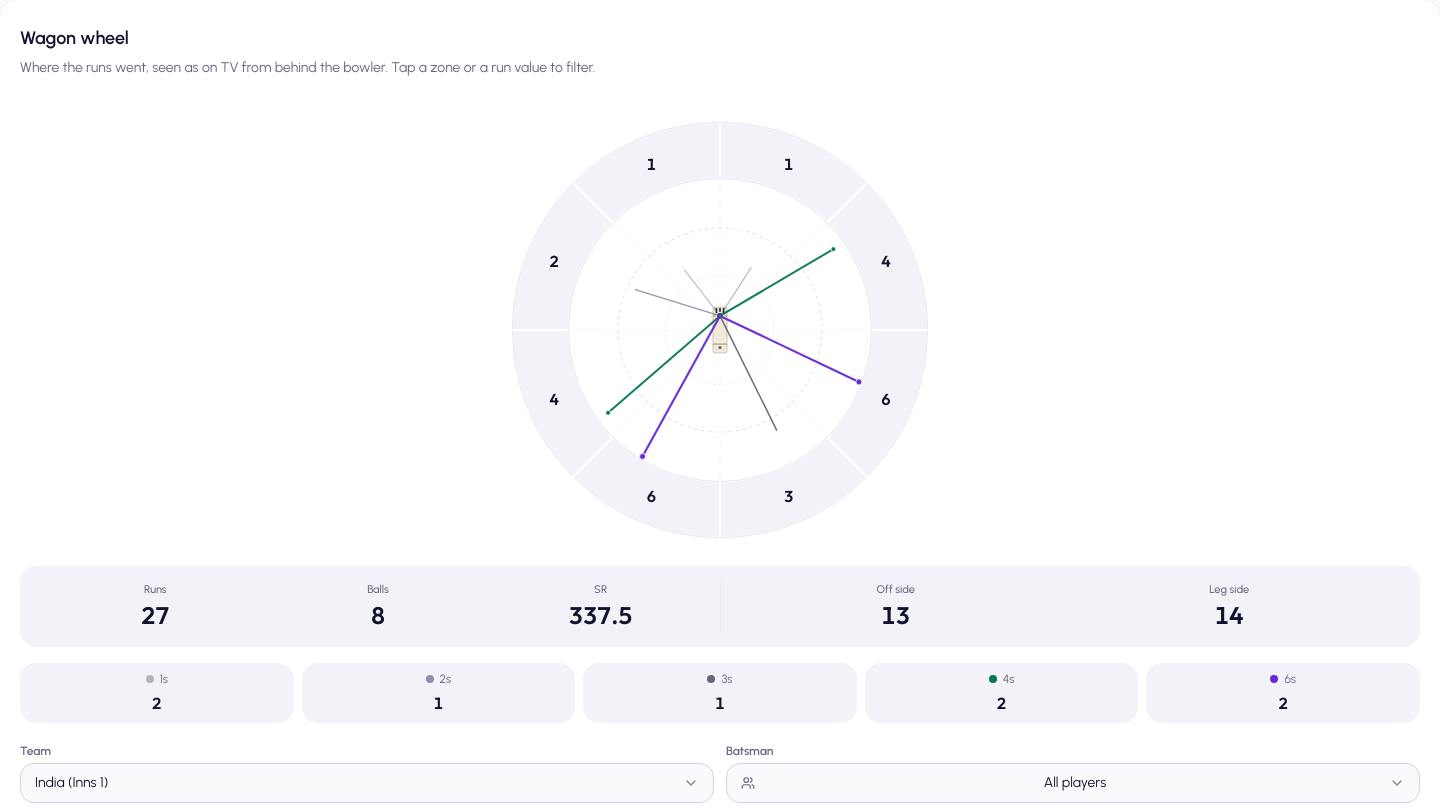
WagonWheel Component (Stumps App Design) › toggles run filter when a run pill is clicked
The image size is (1440, 810).
Note: Click to filter by 6s
Click the button named "show 6s only".
click(1283, 692)  # box top-left (1146, 662), bottom-right (1420, 722)
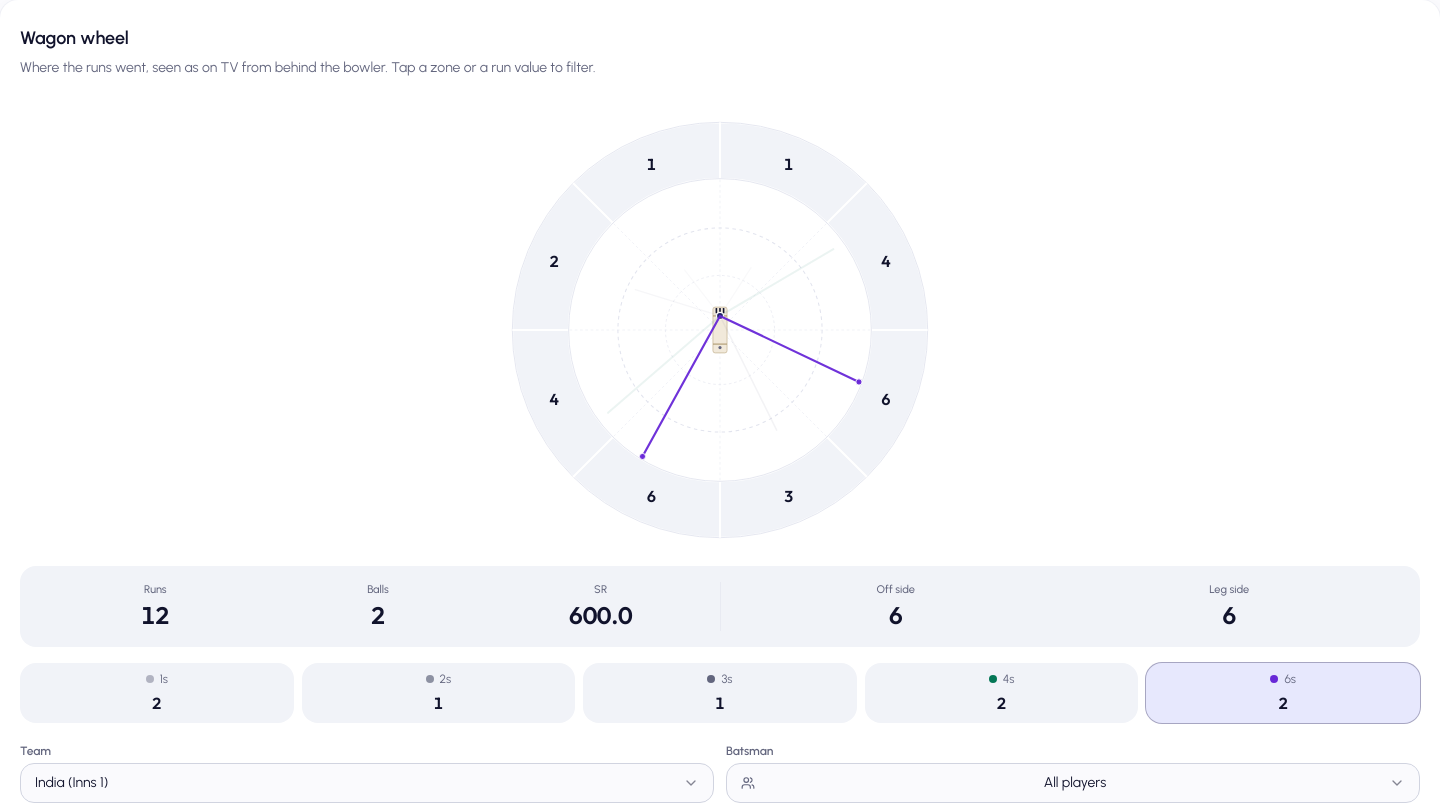
Now the text "12" is shown, box top-left (141, 600), bottom-right (170, 630)
Now the text "600.0" is shown, box top-left (569, 600), bottom-right (632, 630)
Note: Click again to deselect filter
Click the button named "show 6s only".
click(1283, 692)  # box top-left (1146, 662), bottom-right (1420, 722)
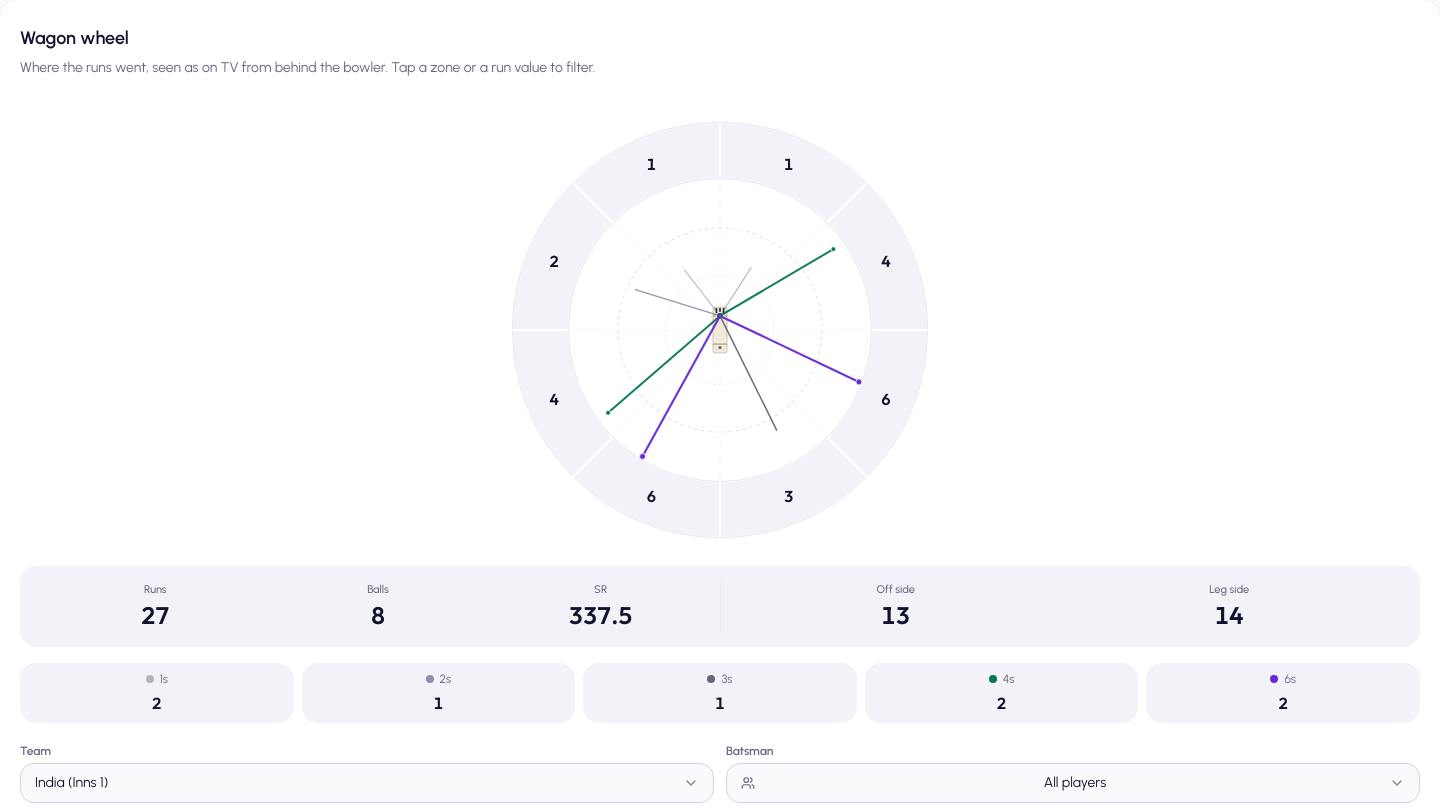
Now the text "27" is shown, box top-left (141, 600), bottom-right (170, 630)
